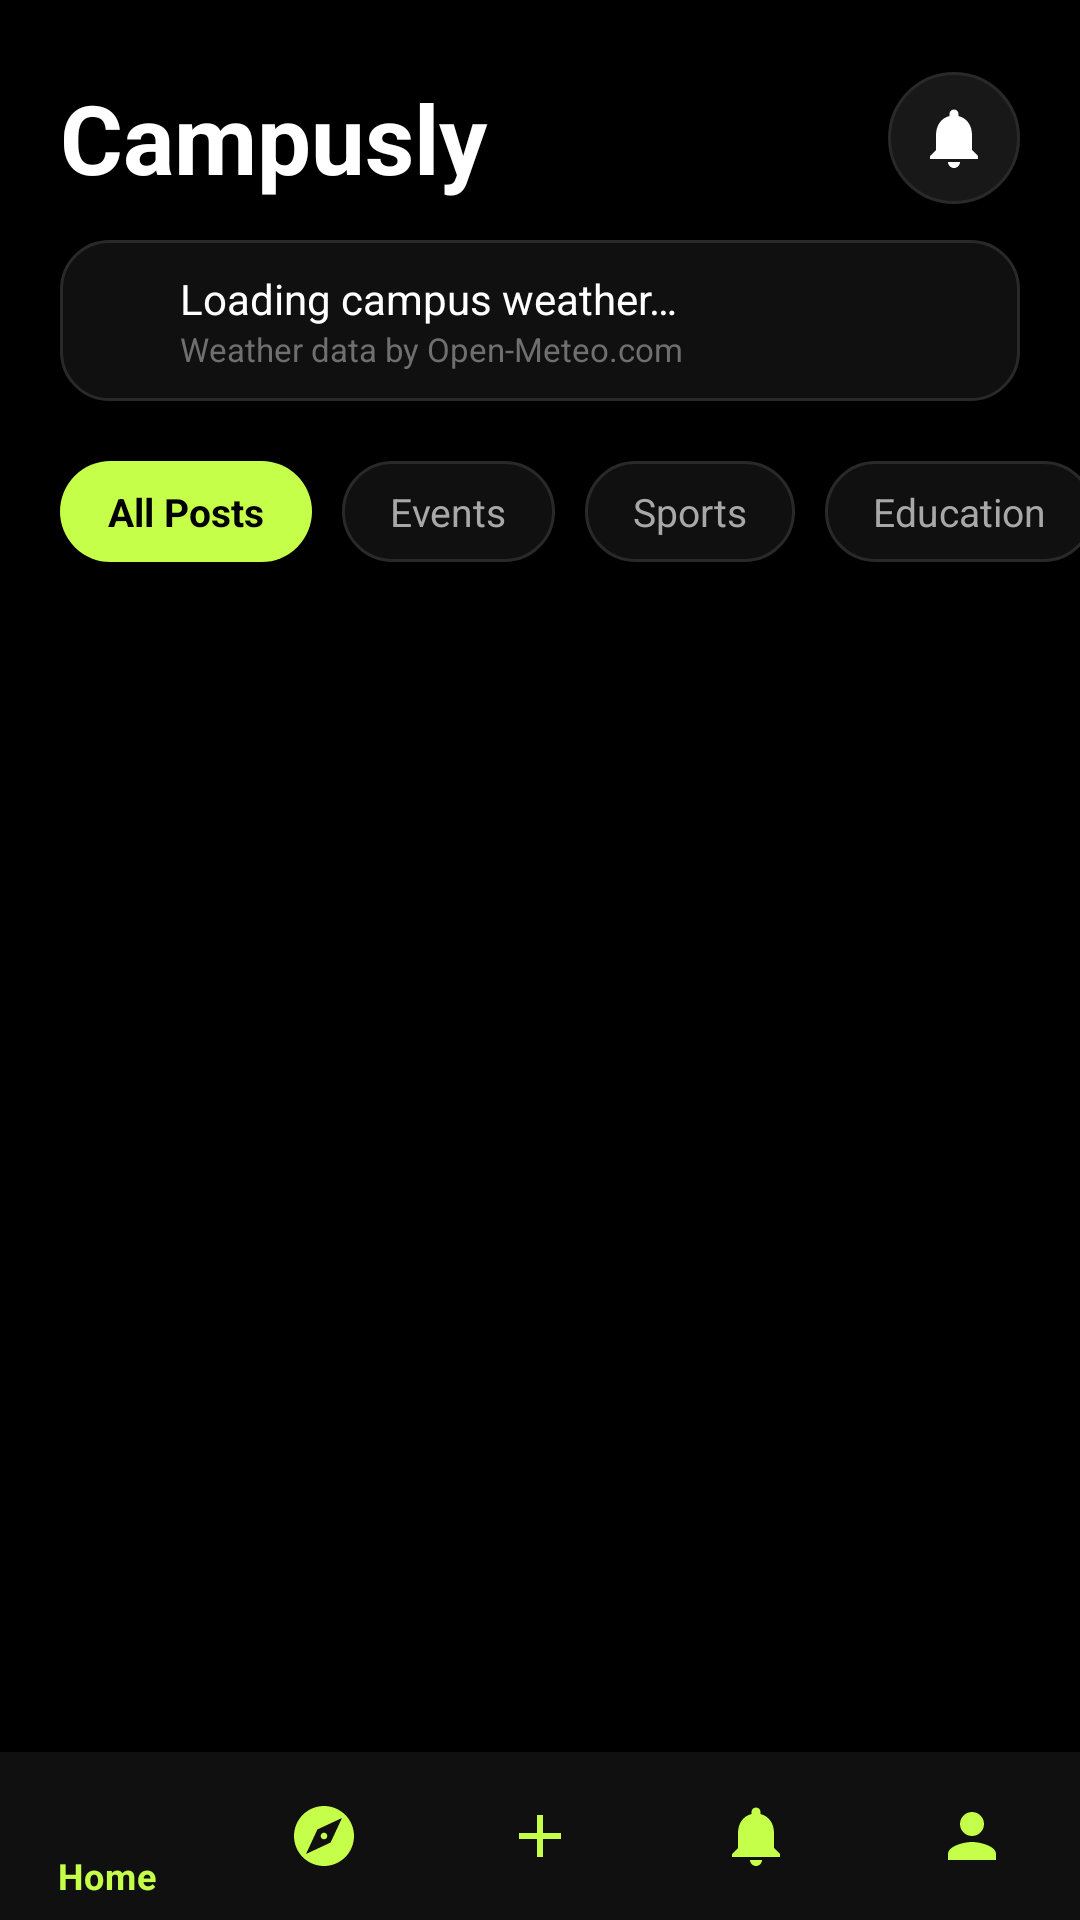

Screen size 1080px x 1920px. Icon name, then its box in pixels as (x1, y1, x2, y2):
Notifications: (888, 72, 1020, 204)
